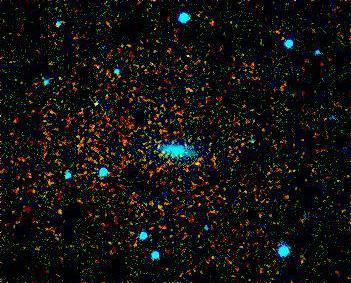star: (182, 149, 212, 179)
